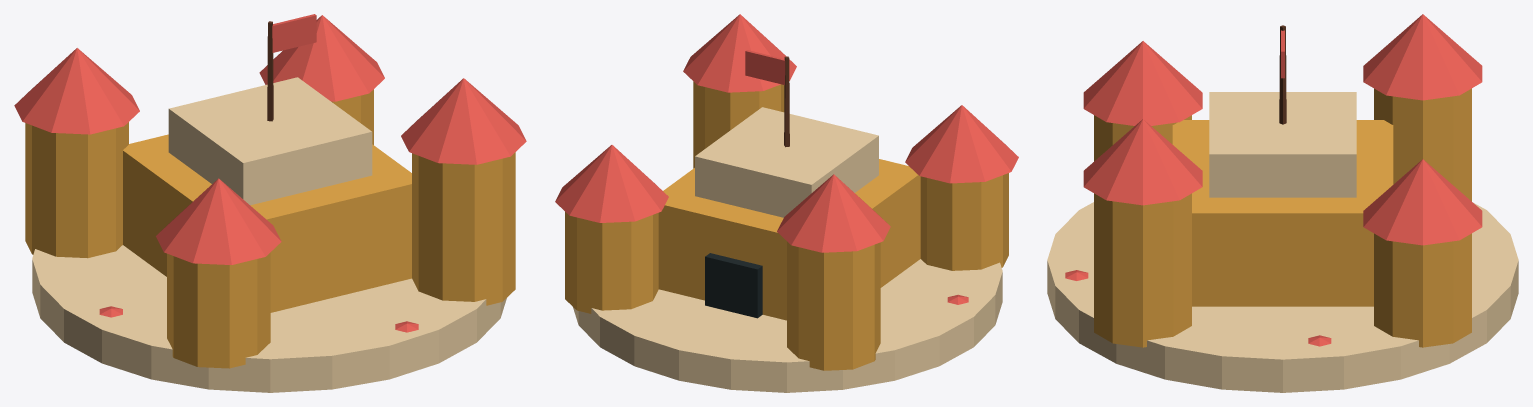
File: ParkParkDecorSandcastle.obj
3 views of the same model, side by side, from view 1: azimuth 30°, elevation 25°; view 2: azimuth 150°, elevation 25°; view 3: azimuth 270°, elevation 25° (orthographic). The views are drawn at different scales.
Parts seen in each view (by area): view 1: ParkParkDecorSandcastle; view 2: ParkParkDecorSandcastle; view 3: ParkParkDecorSandcastle.
Boxes of the visible parts, <box> form: ParkParkDecorSandcastle: <box>14,14,526,392</box>; ParkParkDecorSandcastle: <box>555,14,1018,392</box>; ParkParkDecorSandcastle: <box>1047,14,1518,392</box>.
Size of the model in its own units: 6.4 by 4 by 6.4.
